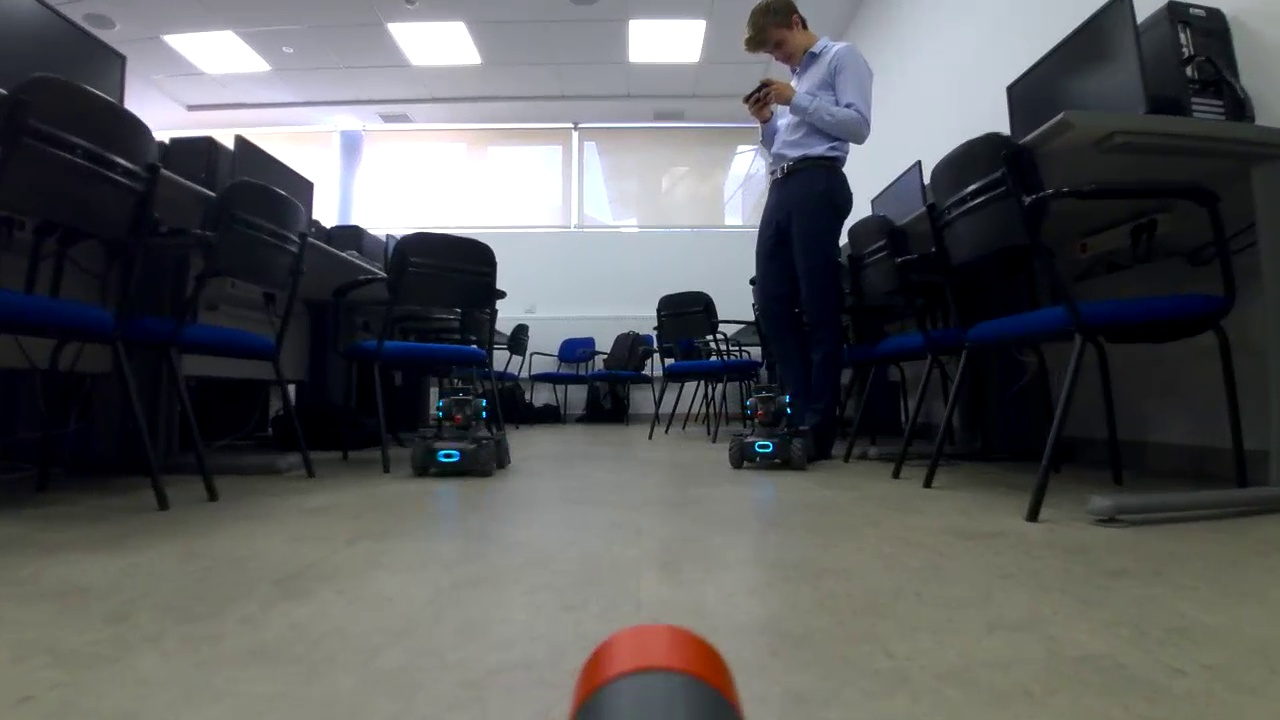robot: (402, 383, 512, 488), (725, 384, 819, 473)
